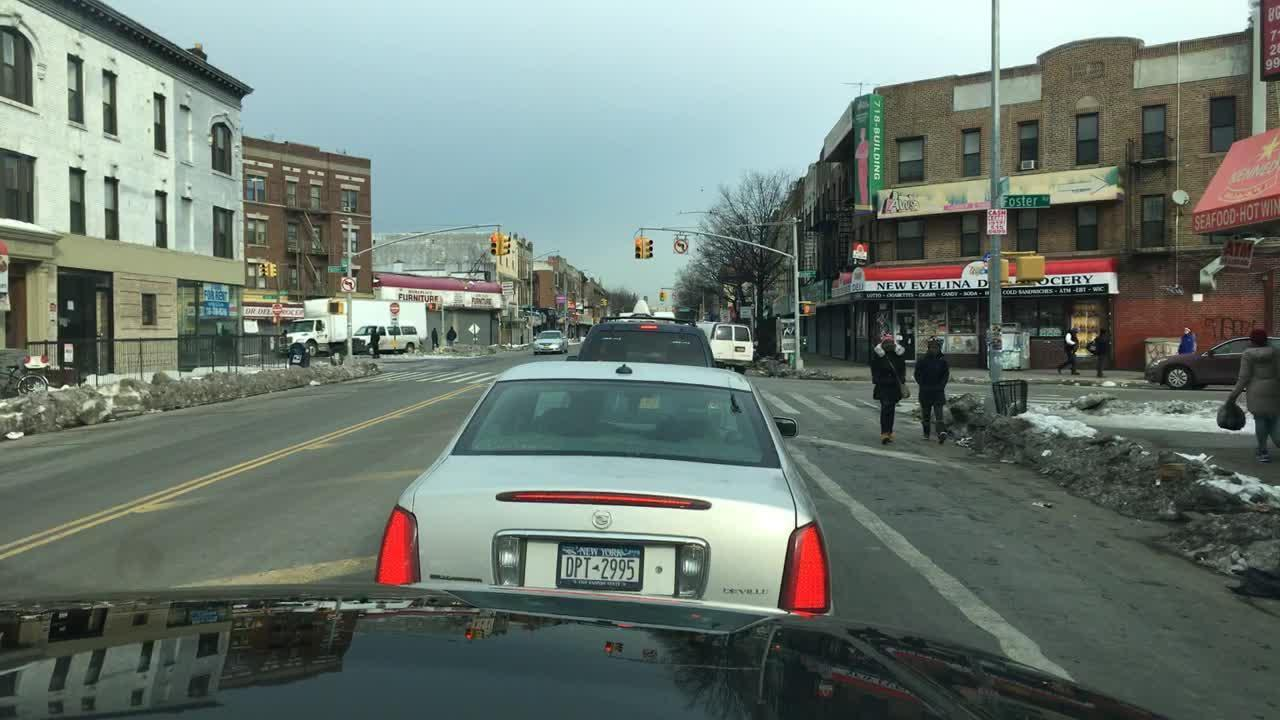cadillac: (588, 506, 615, 535)
